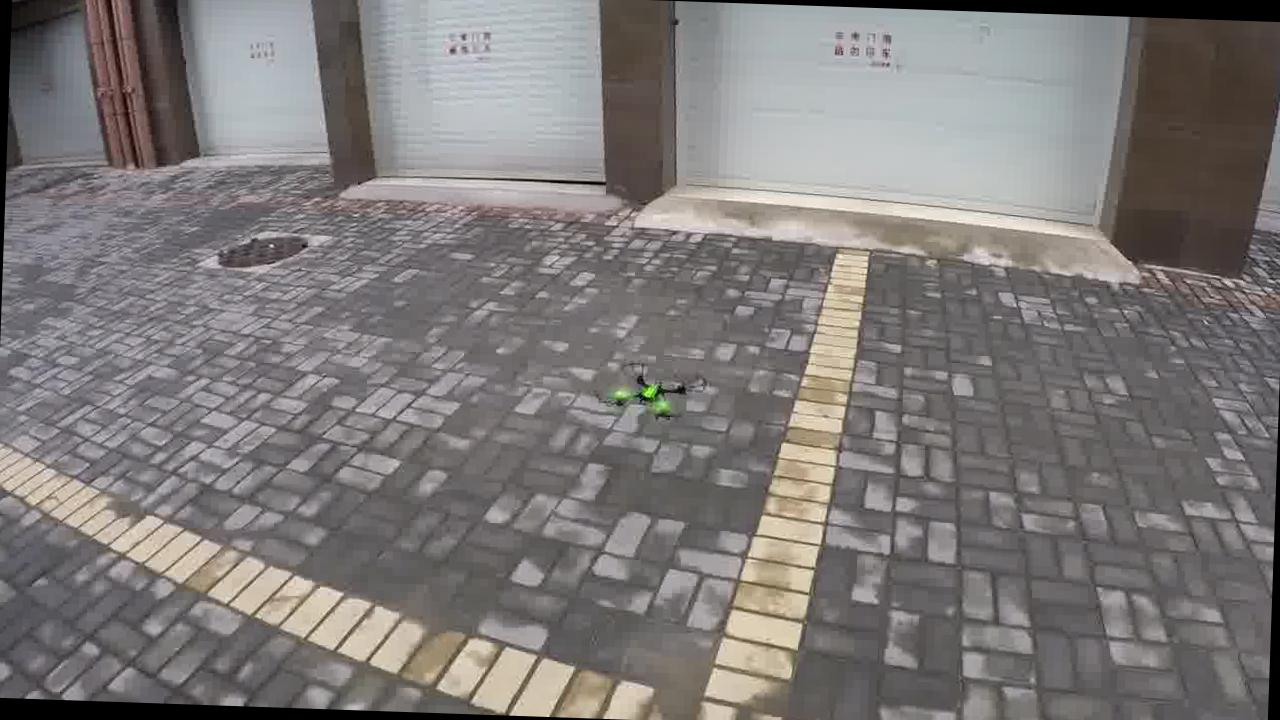drone: (593, 354, 713, 424)
